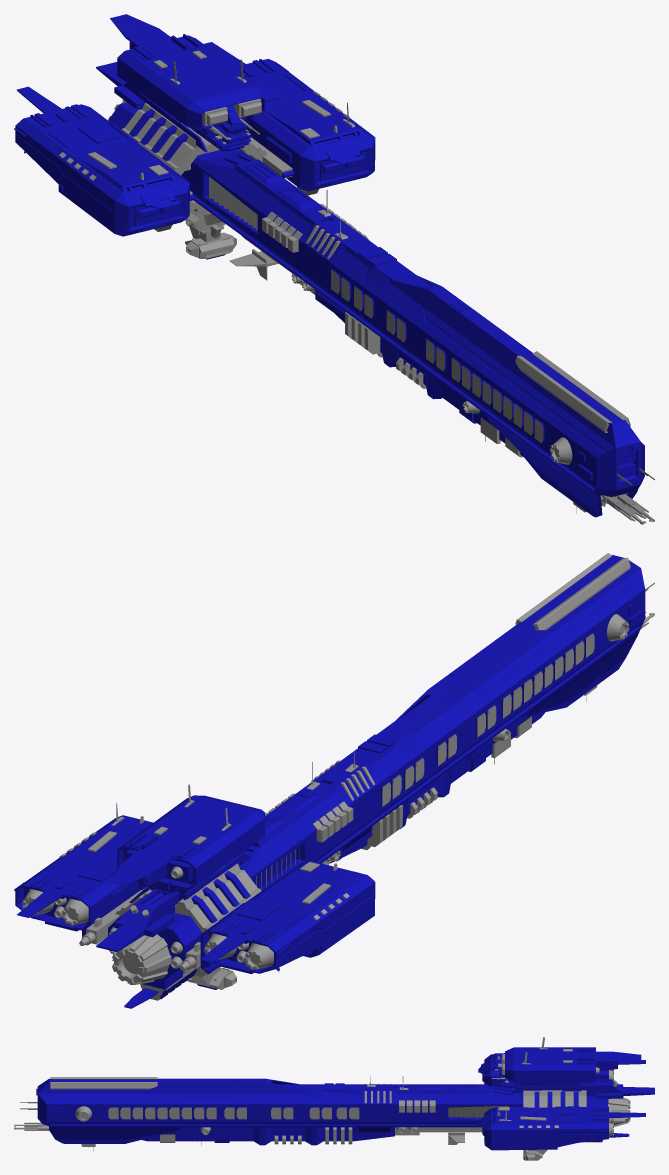
File: Spaceship.FBX
The picture shows the model from 3 angles, top to bottom: view 1: azimuth 30°, elevation 25°; view 2: azimuth 150°, elevation 25°; view 3: azimuth 270°, elevation 25°; orthographic projection. The views are drawn at different scales.
Visible parts, largest first — view 1: [body]; view 2: [body]; view 3: [body].
Boxes of the visible parts, bbox=[...] form: [body]: bbox=[14, 14, 654, 524]; [body]: bbox=[14, 553, 654, 1008]; [body]: bbox=[14, 1037, 654, 1160].
Bounding box in the file's own units: 1.96 × 6.96 × 1.35.
